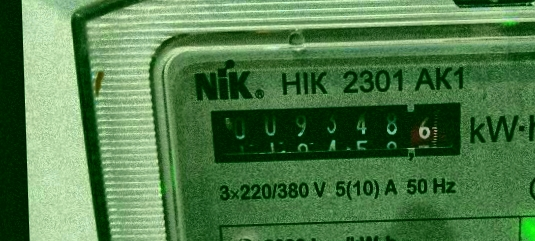0: (261, 112, 277, 136), (231, 113, 245, 140)
3: (322, 109, 337, 136)
4: (352, 108, 367, 136)
6: (414, 113, 432, 141)
8: (382, 108, 398, 137)
9: (291, 111, 307, 138)
screen: (200, 94, 471, 172)
